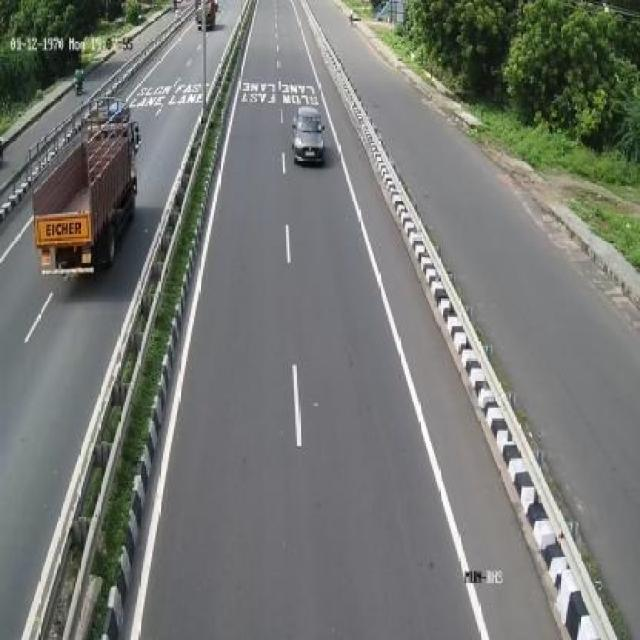car: (286, 101, 336, 172)
